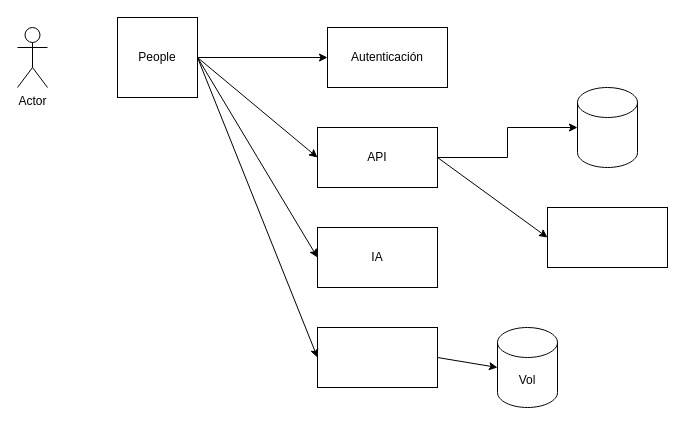
Image size: 685x425. Some labels were removed from this diagram. Each missing label, with the centre of its shape:
"File Manager" goes at [377,357].
"Flowise" goes at [607,237].
"MySQL" goes at [607,127].
